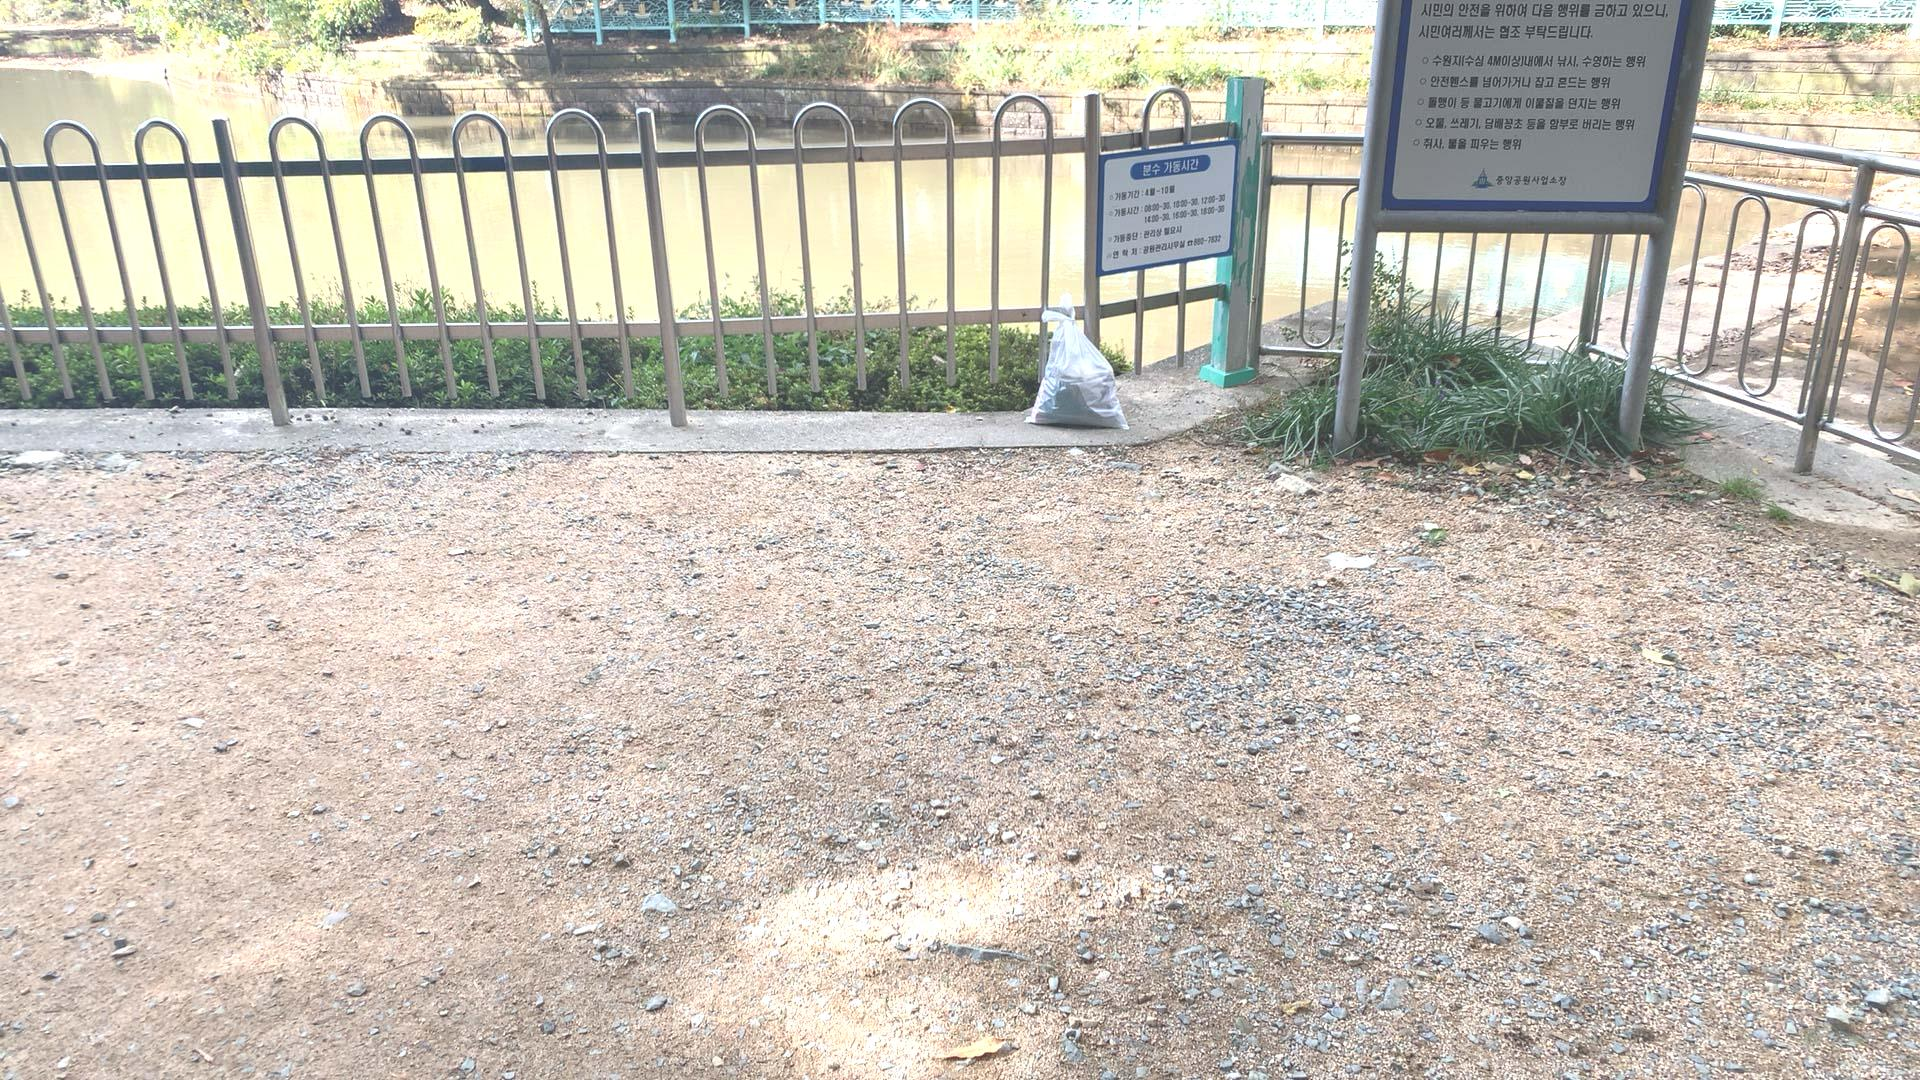white_bag: (1019, 291, 1134, 435)
